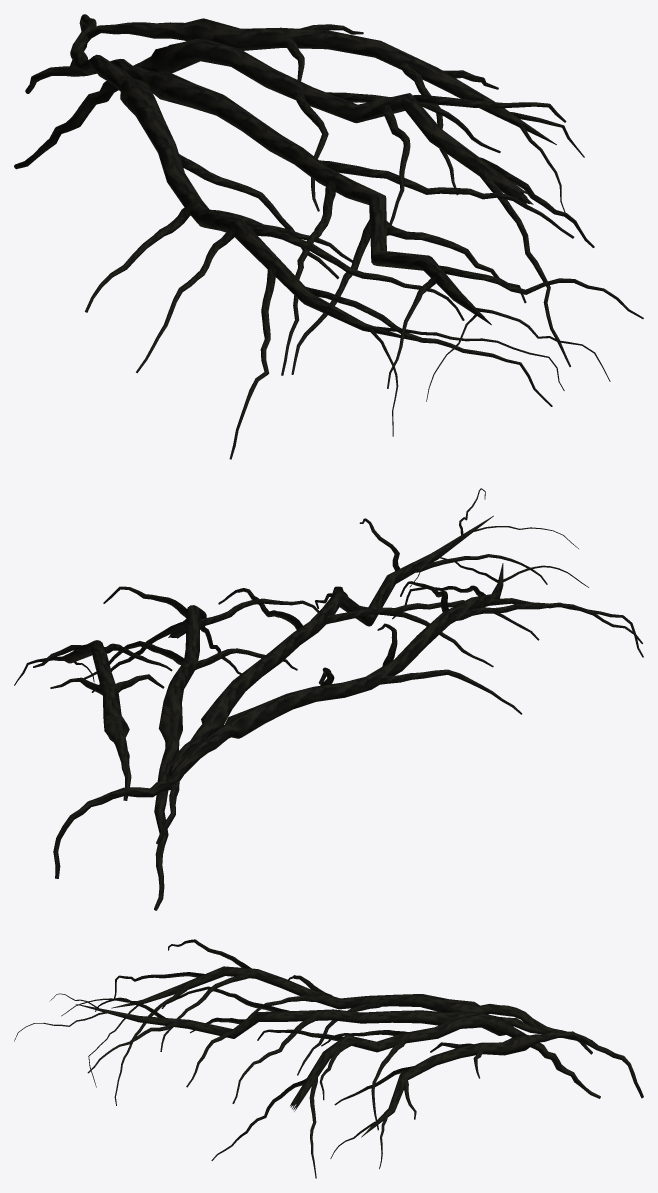
The picture shows the model from 3 angles, top to bottom: view 1: azimuth 30°, elevation 25°; view 2: azimuth 150°, elevation 25°; view 3: azimuth 270°, elevation 25°; orthographic projection. The views are drawn at different scales.
Visible parts, largest first — view 1: SM_BM_Roots_03_LOD0; view 2: SM_BM_Roots_03_LOD0; view 3: SM_BM_Roots_03_LOD0.
Part boxes in pixels (x1=…): SM_BM_Roots_03_LOD0: x1=14, y1=14, x2=643, y2=459; SM_BM_Roots_03_LOD0: x1=14, y1=488, x2=643, y2=910; SM_BM_Roots_03_LOD0: x1=14, y1=939, x2=643, y2=1178.
Bounding box in the file's own units: 3.89 × 1.17 × 5.85.
Materials: 1 (1 with a texture image).
